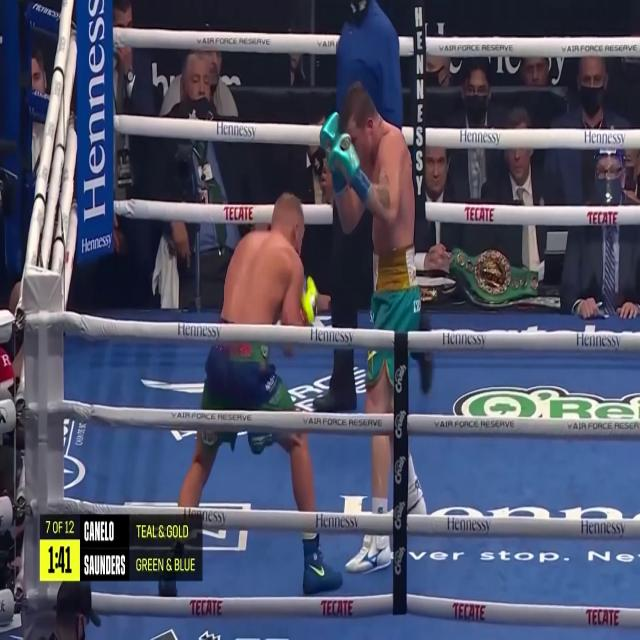boxer_1: (221, 194, 304, 324)
boxer_2: (343, 87, 414, 252)
gloves_1: (301, 276, 317, 323)
gloves_2: (319, 112, 371, 203)
